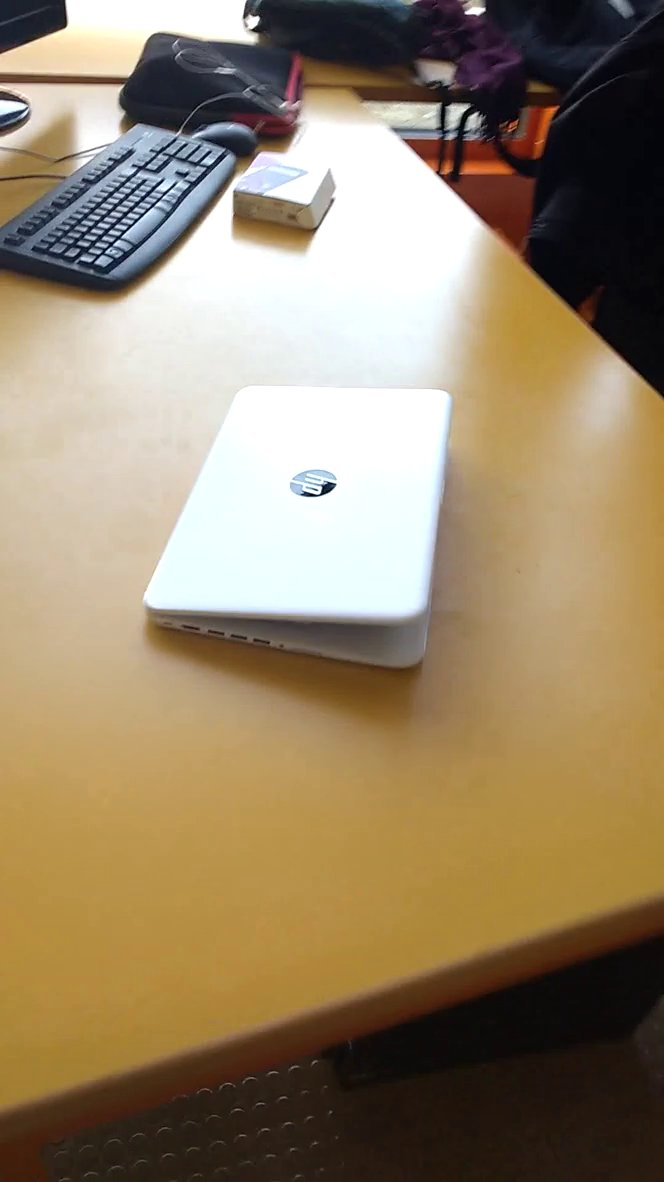laptop: (132, 340, 492, 698)
